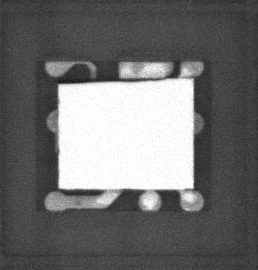DIE_BROKEN: (57, 77, 166, 85)
